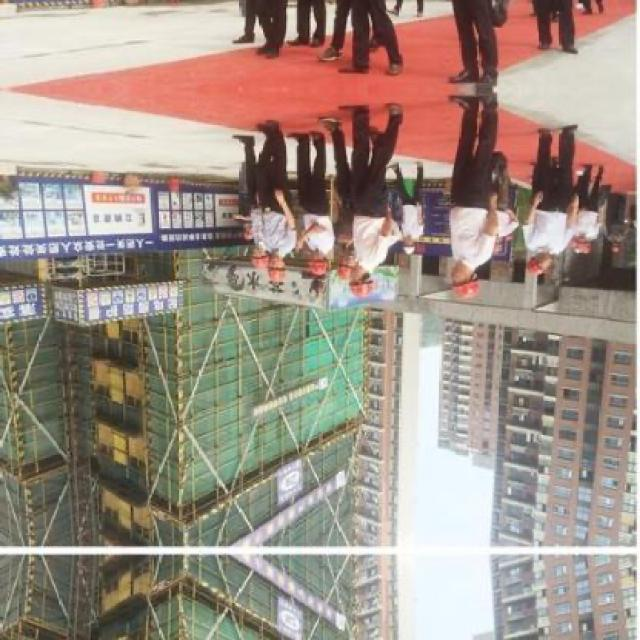con casco: (408, 238, 504, 314), (302, 258, 390, 321), (232, 249, 307, 294), (529, 232, 574, 289), (296, 234, 334, 284)
